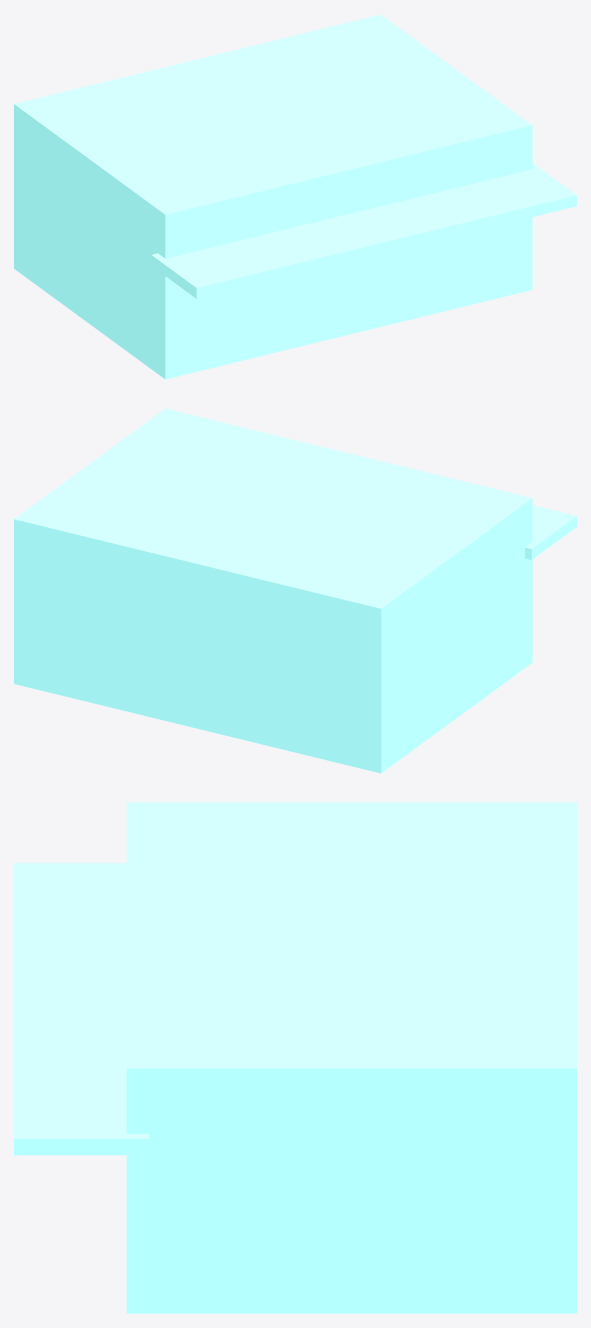
Rendered from building_shop.glb.
The picture shows the model from 3 angles, top to bottom: view 1: azimuth 30°, elevation 25°; view 2: azimuth 150°, elevation 25°; view 3: azimuth 270°, elevation 25°; orthographic projection. The views are drawn at different scales.
Visible parts, largest first — view 1: building_shop; view 2: building_shop; view 3: building_shop.
Part boxes in pixels (x1,y1,x2,y2): building_shop: (14,14,576,379); building_shop: (14,408,576,773); building_shop: (14,802,576,1313).
Bounding box in the file's own units: 14.5 × 6 × 12.5.
